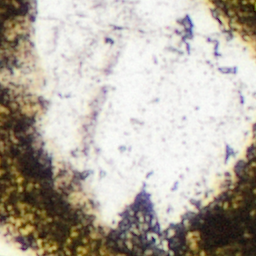cement_matrix: (0, 83, 255, 255), (0, 0, 30, 69), (213, 0, 255, 38), (179, 17, 192, 40)
gravel_crushed_stones: (0, 0, 255, 249), (0, 220, 51, 255), (178, 16, 193, 41)
